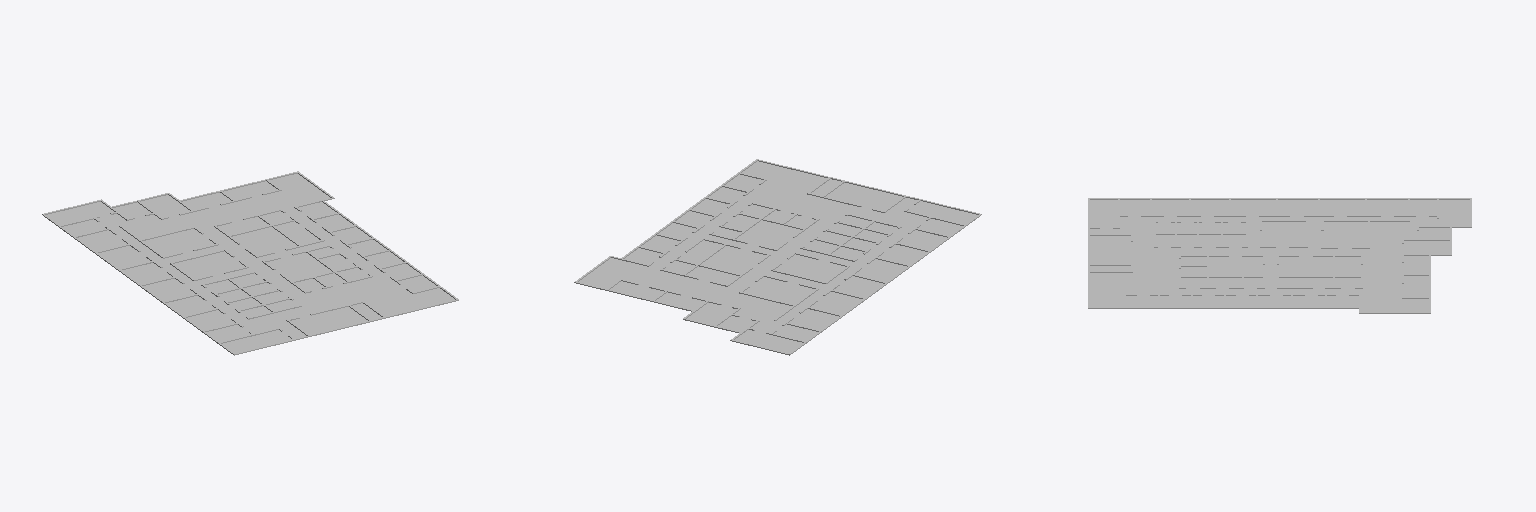
The model's file is Blueprint.obj.
3 views of the same model, side by side, from view 1: azimuth 30°, elevation 25°; view 2: azimuth 150°, elevation 25°; view 3: azimuth 270°, elevation 25° (orthographic).
Parts seen in each view (by area): view 1: Plane; view 2: Plane; view 3: Plane.
Boxes of the visible parts, x1=… form: Plane: x1=42, y1=171, x2=458, y2=355; Plane: x1=574, y1=159, x2=981, y2=355; Plane: x1=1088, y1=198, x2=1471, y2=313.
Size of the model in its own units: 238 by 1.01 by 336.